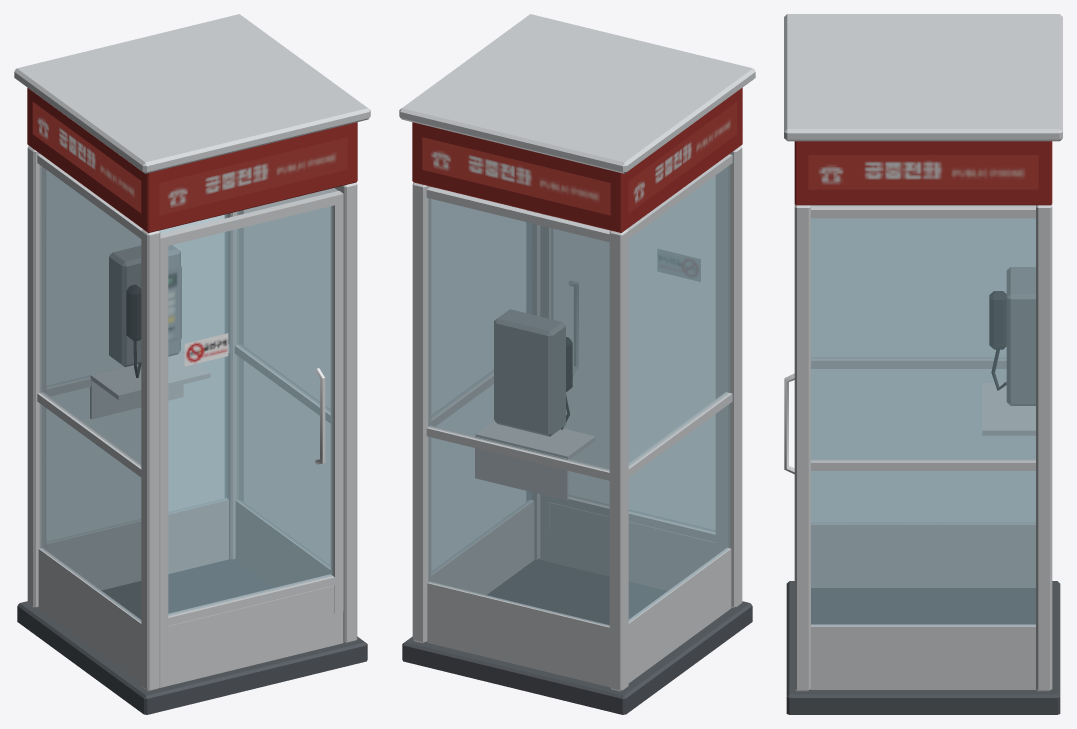
Rendered from SC_Str_Phone_Booth.gltf.
3 renders of one model, left to right at view 1: azimuth 30°, elevation 25°; view 2: azimuth 150°, elevation 25°; view 3: azimuth 270°, elevation 25°, orthographic. The views are drawn at different scales.
Visible parts, largest first — view 1: SC_Str_Phone_Booth; view 2: SC_Str_Phone_Booth; view 3: SC_Str_Phone_Booth.
Part boxes in pixels (x1,y1,x2,y2): SC_Str_Phone_Booth: [14, 14, 370, 714]; SC_Str_Phone_Booth: [399, 14, 755, 714]; SC_Str_Phone_Booth: [784, 14, 1062, 714].
Bounding box in the file's own units: 1.04 × 2.41 × 1.04.
5 materials, 5 textured.
